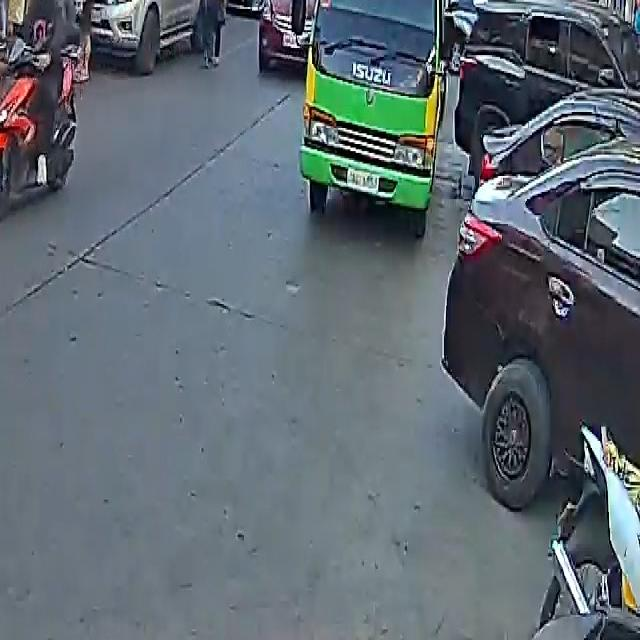car: (443, 73, 640, 529), (454, 0, 639, 187), (78, 0, 201, 73), (255, 0, 334, 75), (225, 0, 287, 18)
